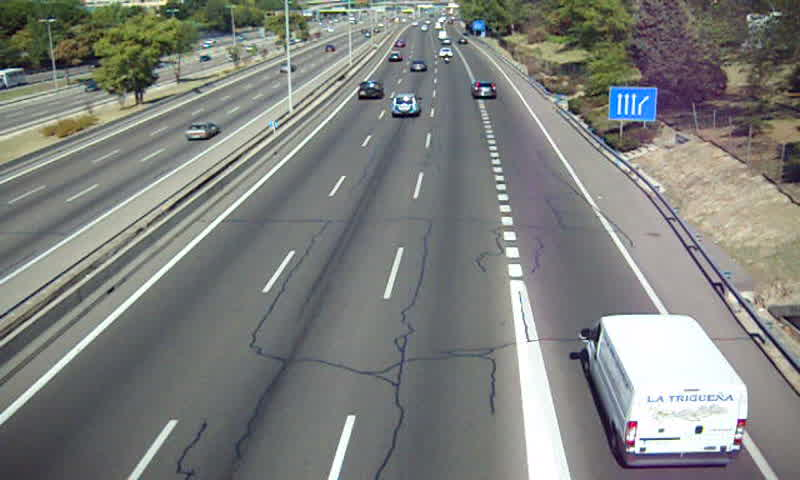car: (391, 94, 424, 117), (357, 81, 384, 102), (473, 81, 499, 101), (408, 59, 429, 73)
van: (582, 314, 748, 467)
